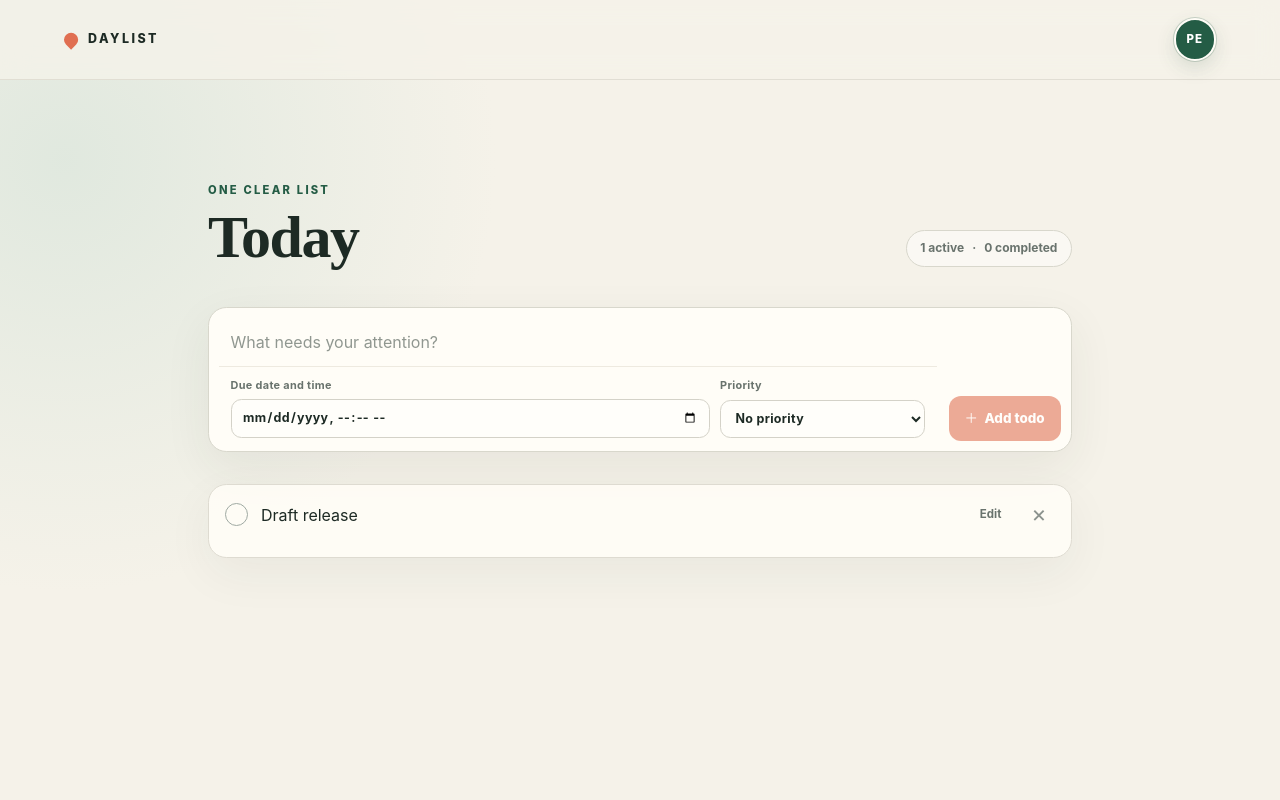
Scenario: App › edits todo details inline and can cancel without saving
The image size is (1280, 800).
Click the button with aria-label "Edit Draft release" at (991,515), box [971,499,1010,530]
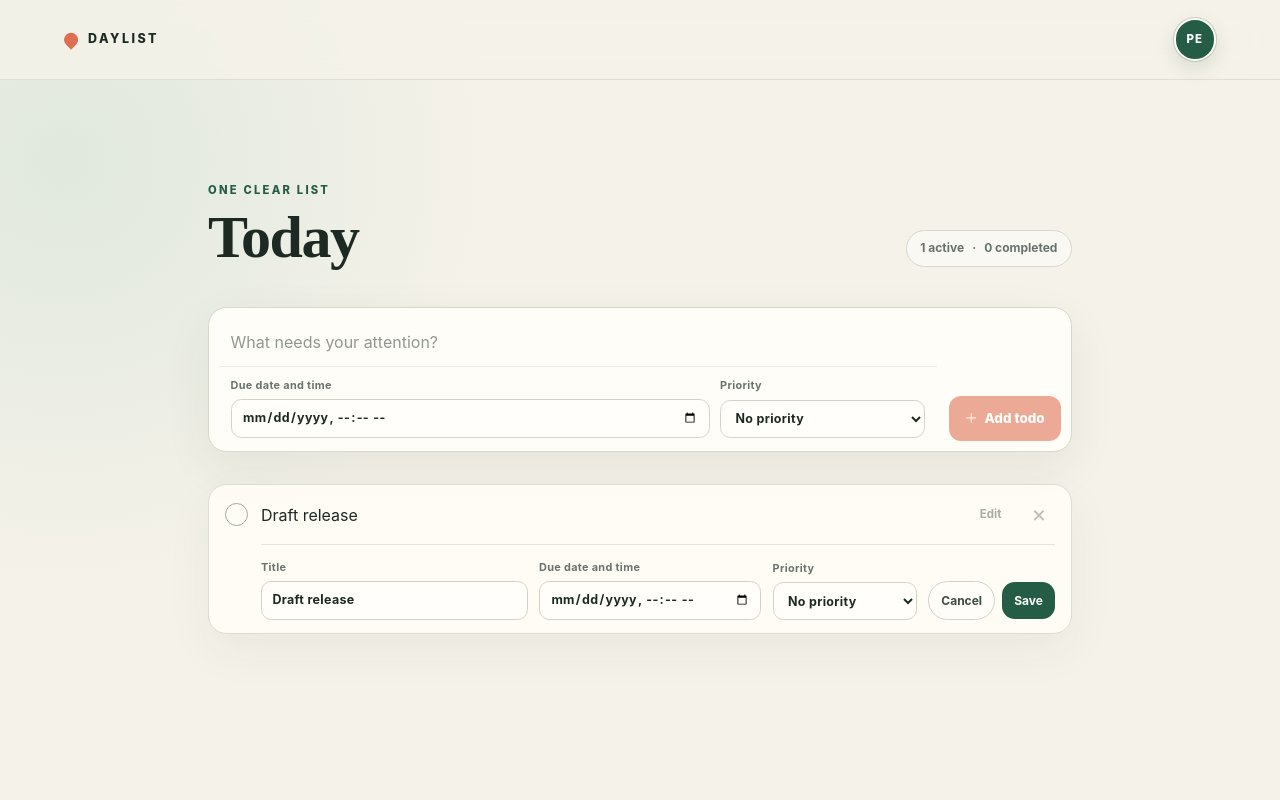
Replace the text in the field named "Edit title for Draft release" with "Discard me" at (394,600), box [261,581,528,620]
Click the button with aria-label "Cancel editing Draft release" at (962,601), box [928,581,995,620]
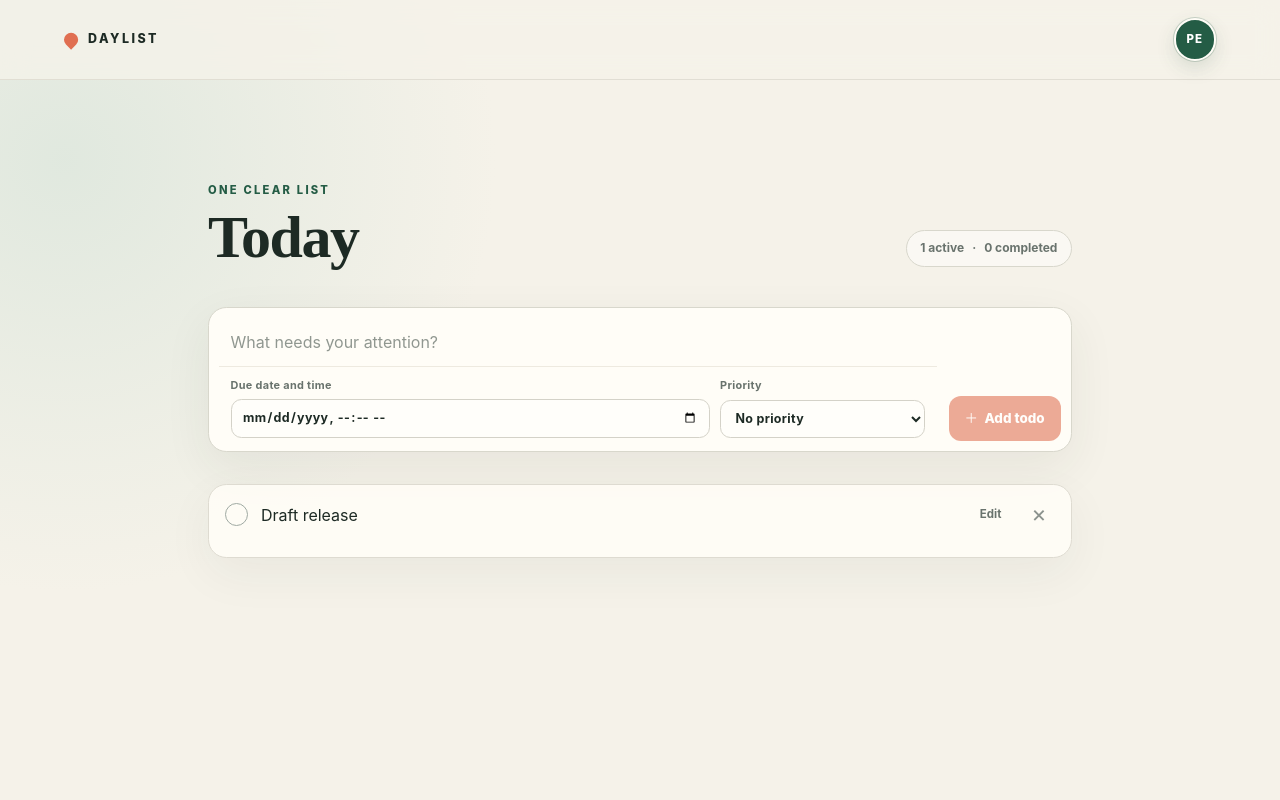
Expected: the text "Draft release" is shown, [261,504,358,524]
Click the button with aria-label "Edit Draft release" at (991,515), box [971,499,1010,530]
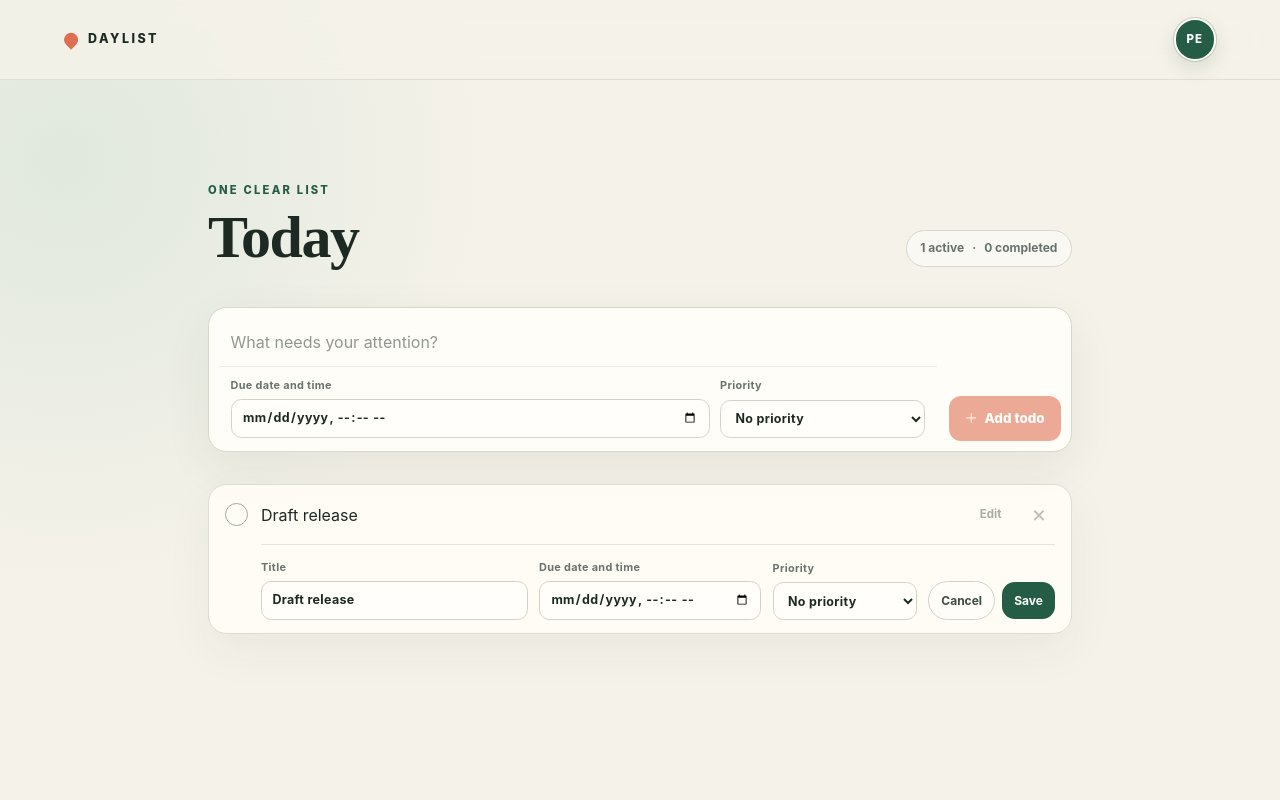
Replace the text in the field named "Edit title for Draft release" with "Ship release" at (394,600), box [261,581,528,620]
Type "2026-09-04T09:15" into the field named "Edit due date and time for Draft release" at (650,600), box [539,581,761,620]
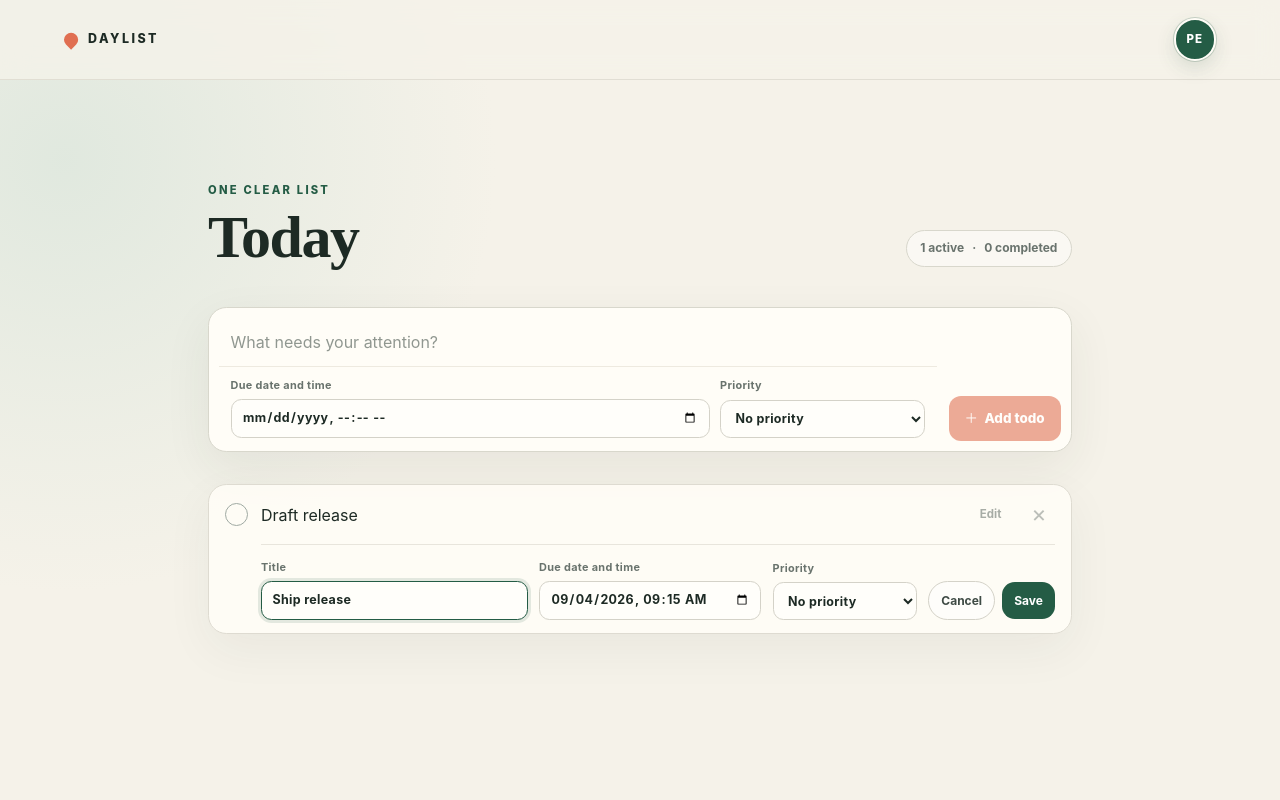
Select "Medium" in the dropdown named "Edit priority for Draft release" at (845,601), box [772,582,917,620]
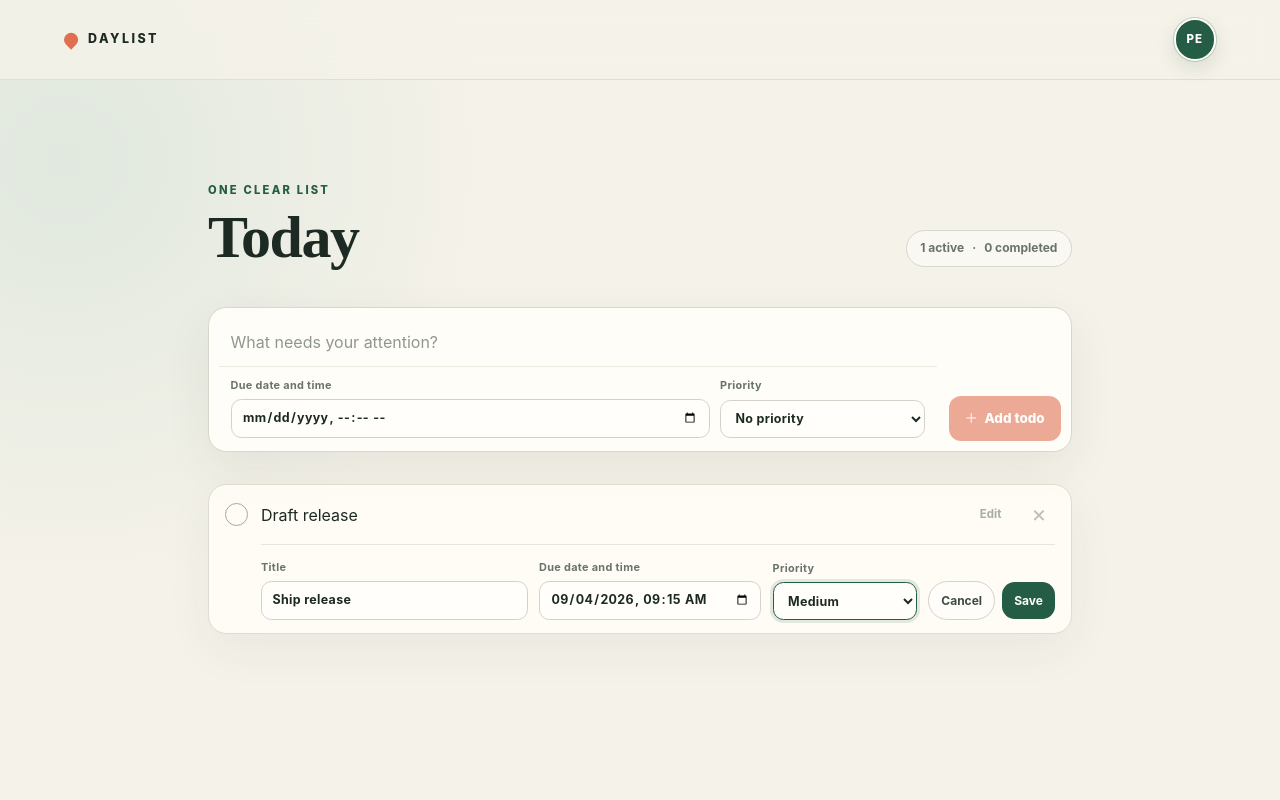
Click the button with aria-label "Save Draft release" at (1029,601), box [1002,582,1055,619]
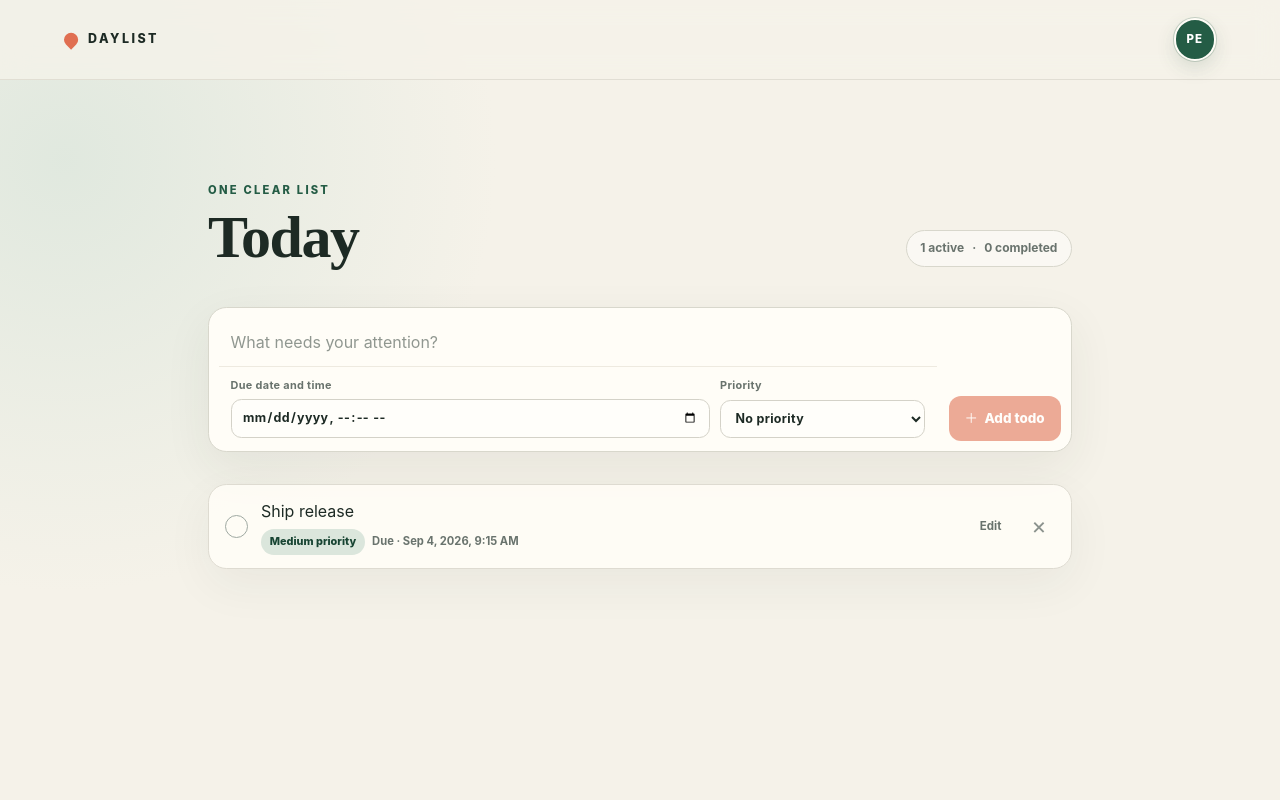
Expected: the text "Ship release" is shown, [261,500,354,520]
Expected: the text "Medium priority" is shown, [261,529,365,554]
